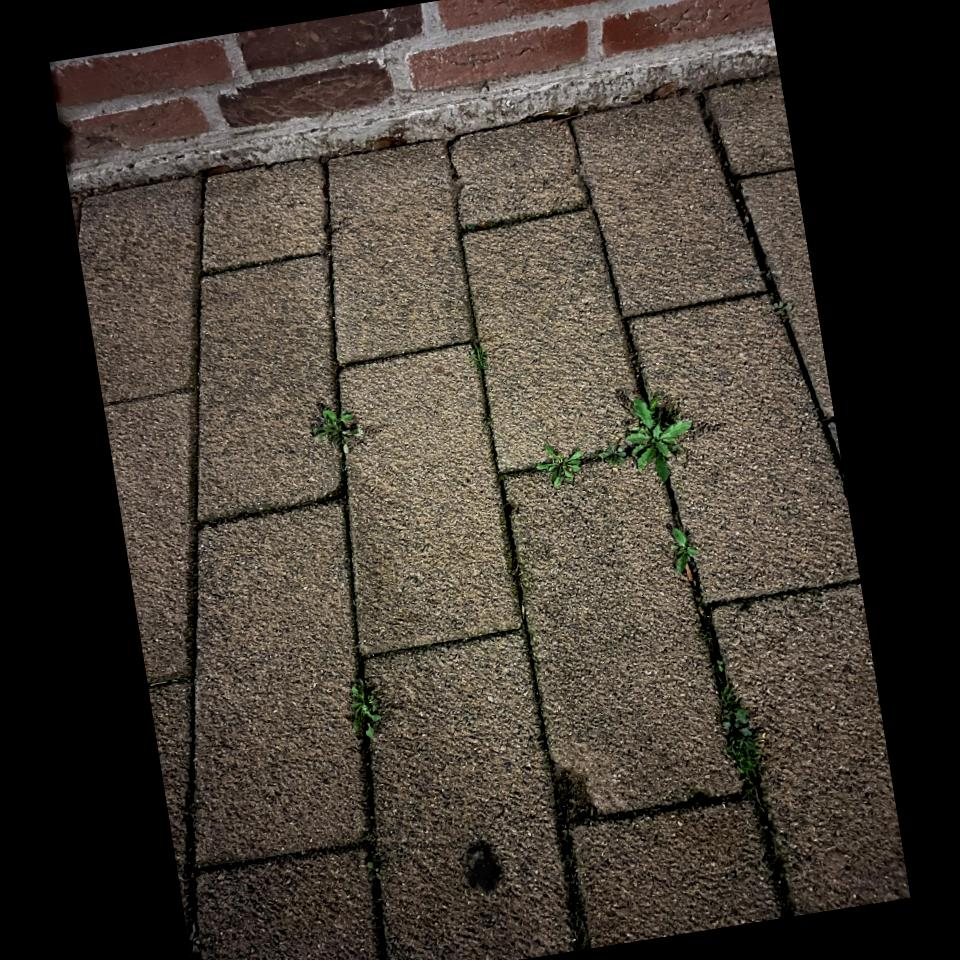weed: (627, 399, 691, 482), (721, 679, 763, 783), (313, 408, 362, 454), (536, 445, 583, 487), (352, 679, 381, 738), (672, 527, 698, 573), (473, 344, 488, 371), (571, 471, 574, 475)
